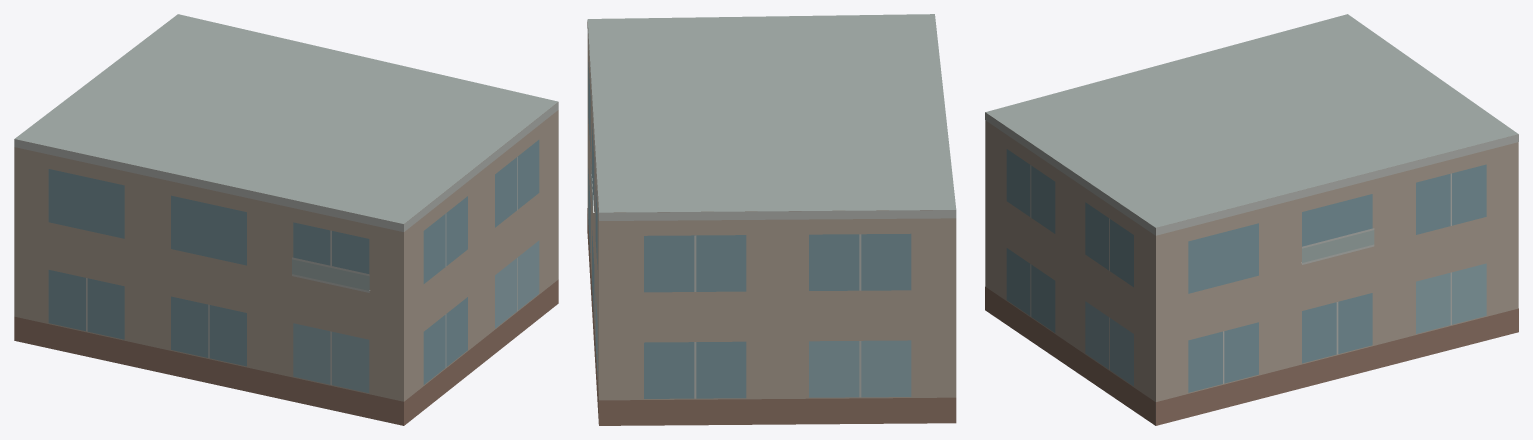
The model's file is survey-upis-32733249.glb.
3 renders of one model, left to right at view 1: azimuth 30°, elevation 25°; view 2: azimuth 150°, elevation 25°; view 3: azimuth 270°, elevation 25°, orthographic. The views are drawn at different scales.
Parts seen in each view (by area): view 1: survey-upis-32733249.tmp; view 2: survey-upis-32733249.tmp; view 3: survey-upis-32733249.tmp.
Boxes of the visible parts, bbox=[...] form: survey-upis-32733249.tmp: bbox=[14, 14, 558, 425]; survey-upis-32733249.tmp: bbox=[587, 14, 956, 425]; survey-upis-32733249.tmp: bbox=[985, 14, 1518, 425].
Size of the model in its own units: 14.14 by 6.1 by 14.91.
